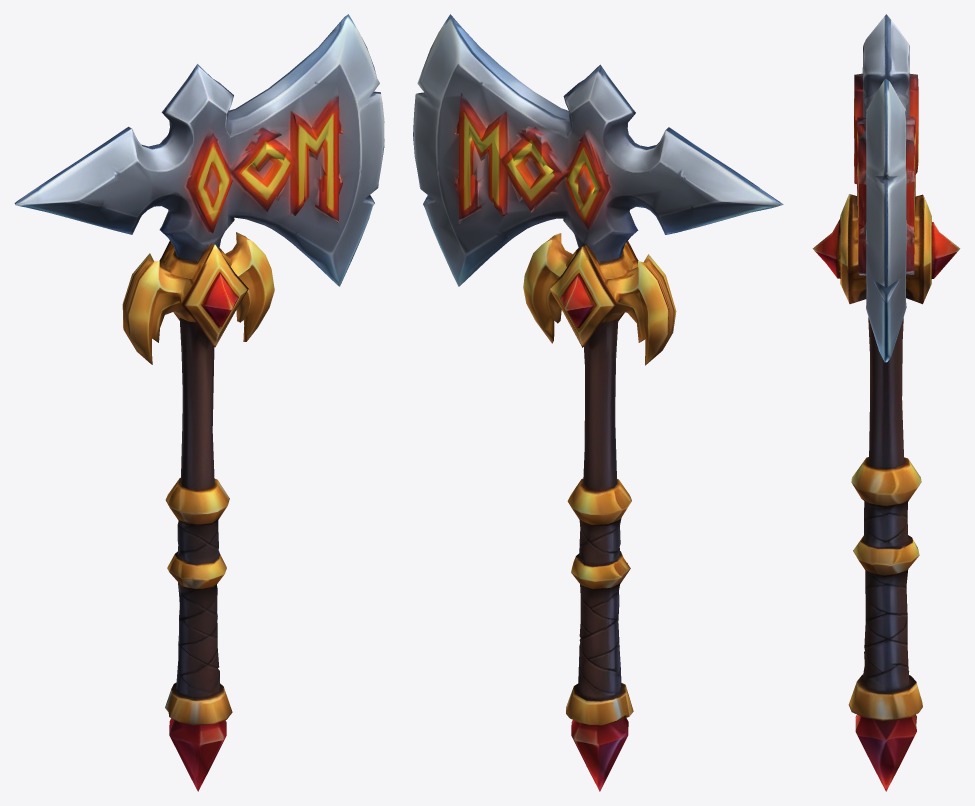
The model's file is w_rune--axe.glb.
3 renders of one model, left to right at view 1: azimuth 30°, elevation 25°; view 2: azimuth 150°, elevation 25°; view 3: azimuth 270°, elevation 25°, orthographic. The views are drawn at different scales.
Visible parts, largest first — view 1: Weapon; view 2: Weapon; view 3: Weapon.
Part boxes in pixels (x1=…): Weapon: x1=14, y1=14, x2=384, y2=791; Weapon: x1=413, y1=14, x2=783, y2=791; Weapon: x1=812, y1=14, x2=960, y2=791.
Bounding box in the file's own units: 0.5131 × 0.9828 × 0.1665.
Materials: 1 (1 with a texture image).
